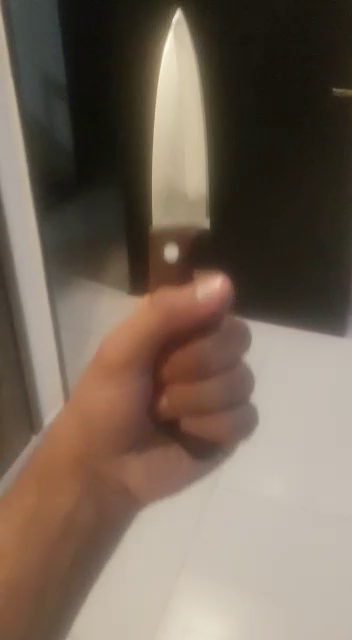knife: (23, 1, 349, 517)
